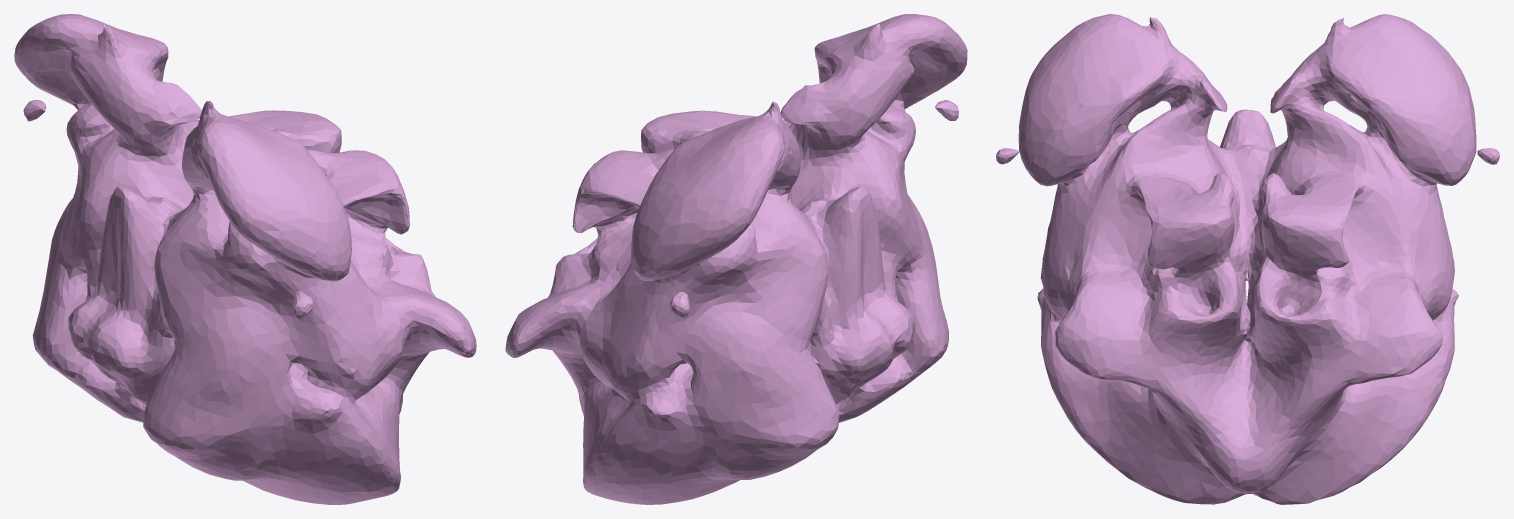
3 views of the same model, side by side, from view 1: azimuth 30°, elevation 25°; view 2: azimuth 150°, elevation 25°; view 3: azimuth 270°, elevation 25° (orthographic). The views are drawn at different scales.
Visible parts, largest first — view 1: 323.obj; view 2: 323.obj; view 3: 323.obj.
Part boxes in pixels (x1=…): 323.obj: x1=14, y1=14, x2=476, y2=504; 323.obj: x1=505, y1=14, x2=967, y2=504; 323.obj: x1=996, y1=14, x2=1499, y2=504.
Size of the model in its own units: 3239 by 4439 by 4970.
